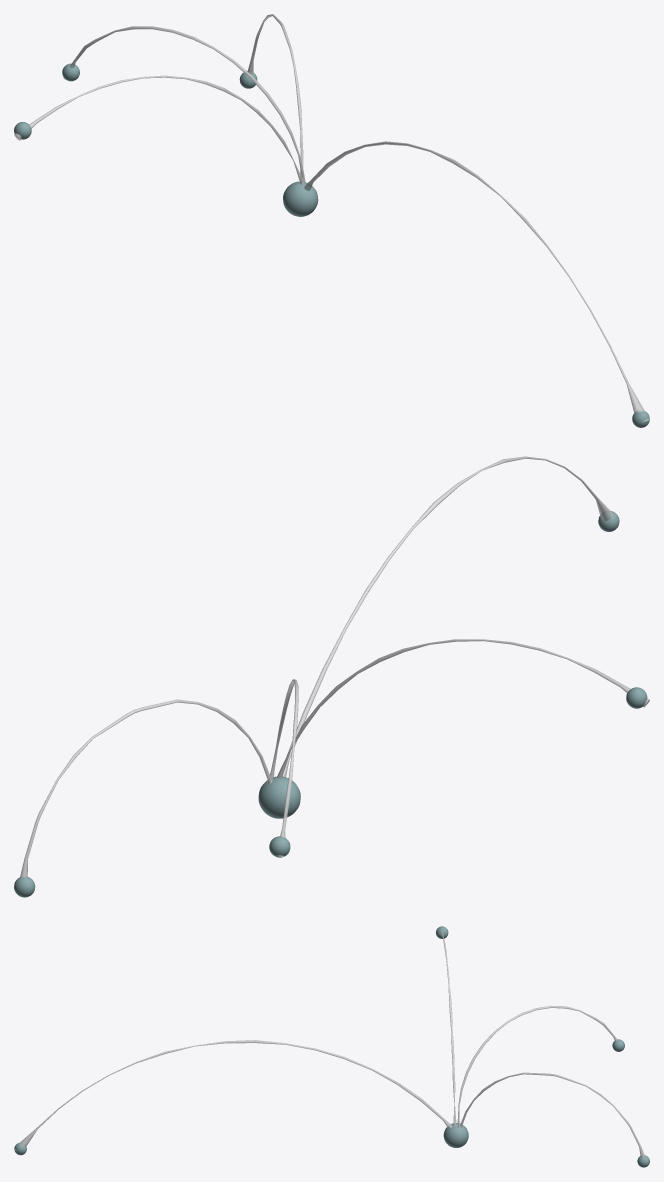
Rendered from lineas_señales.fbx.
3 renders of one model, top to bottom at view 1: azimuth 30°, elevation 25°; view 2: azimuth 150°, elevation 25°; view 3: azimuth 270°, elevation 25°, orthographic. The views are drawn at different scales.
Visible parts, largest first — view 1: pSphere8; view 2: pSphere8; view 3: pSphere8.
Boxes of the visible parts, bbox=[...] form: pSphere8: bbox=[14, 14, 649, 427]; pSphere8: bbox=[14, 456, 649, 897]; pSphere8: bbox=[14, 926, 649, 1167].
Size of the model in its own units: 39.89 by 18.41 by 80.64.
